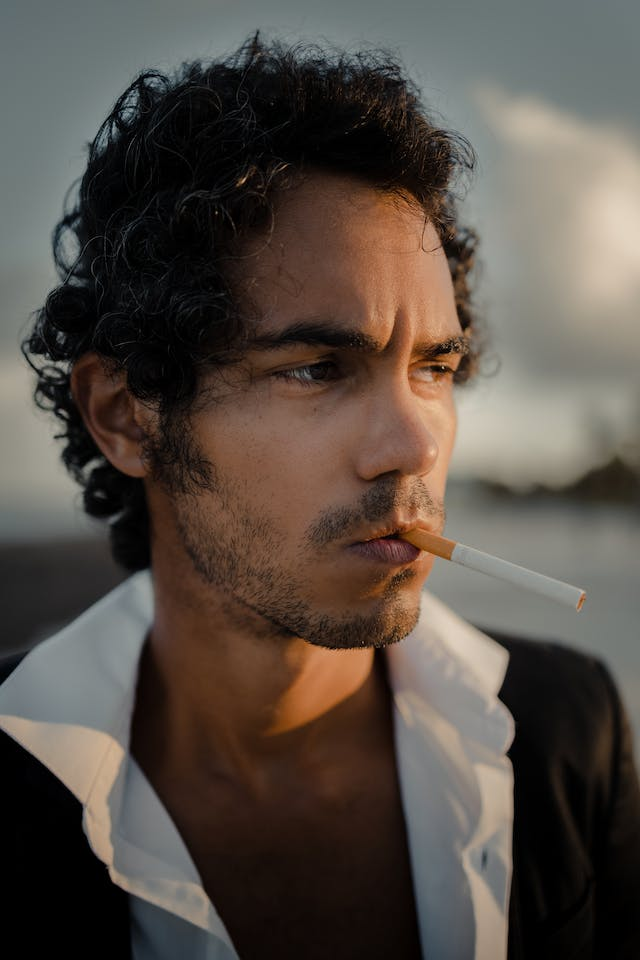Cigarette: (402, 527, 588, 614)
